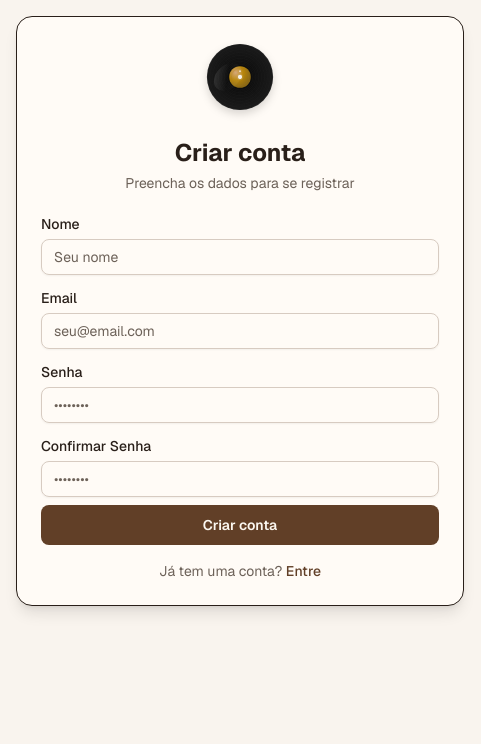
Test: RegisterPage › validação de nome › should show error for nome less than 2 characters
The width and height of the screenshot is (481, 744).
In the field labelled "Nome": (240, 257) top-left (41, 239), bottom-right (439, 275), type "A"
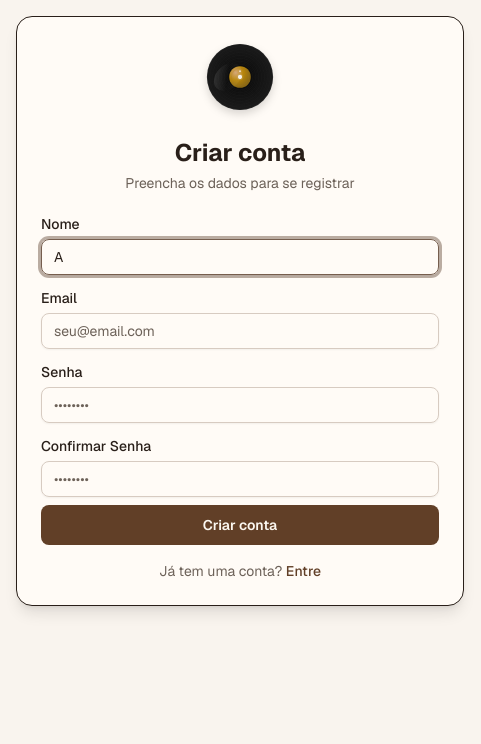
Click the button "Criar conta": (240, 525) top-left (41, 505), bottom-right (439, 545)
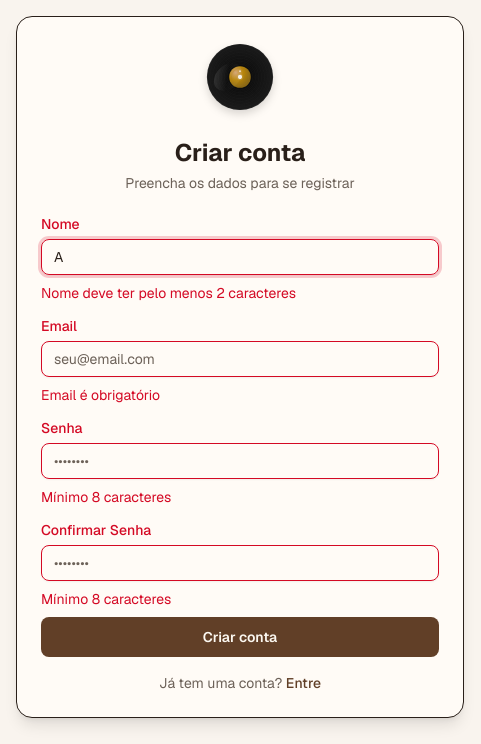
expect the text "Nome deve ter pelo menos 2 caracteres" is shown: met, box top-left (41, 284), bottom-right (296, 302)
